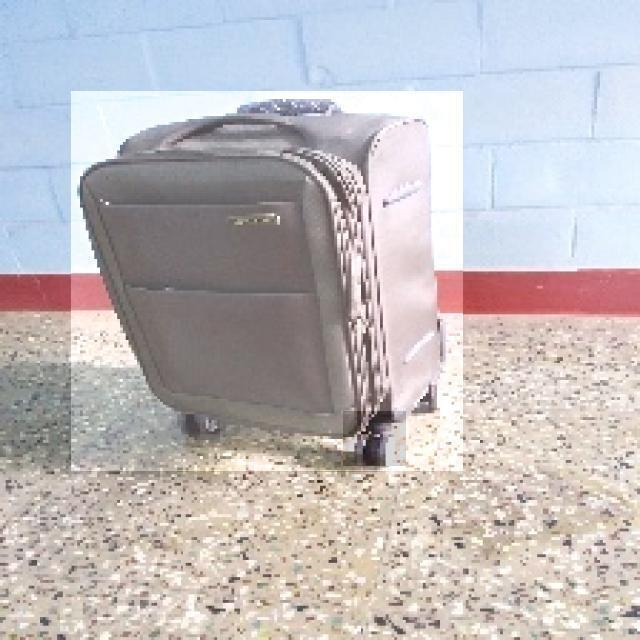Suitcase: (70, 94, 470, 482)
